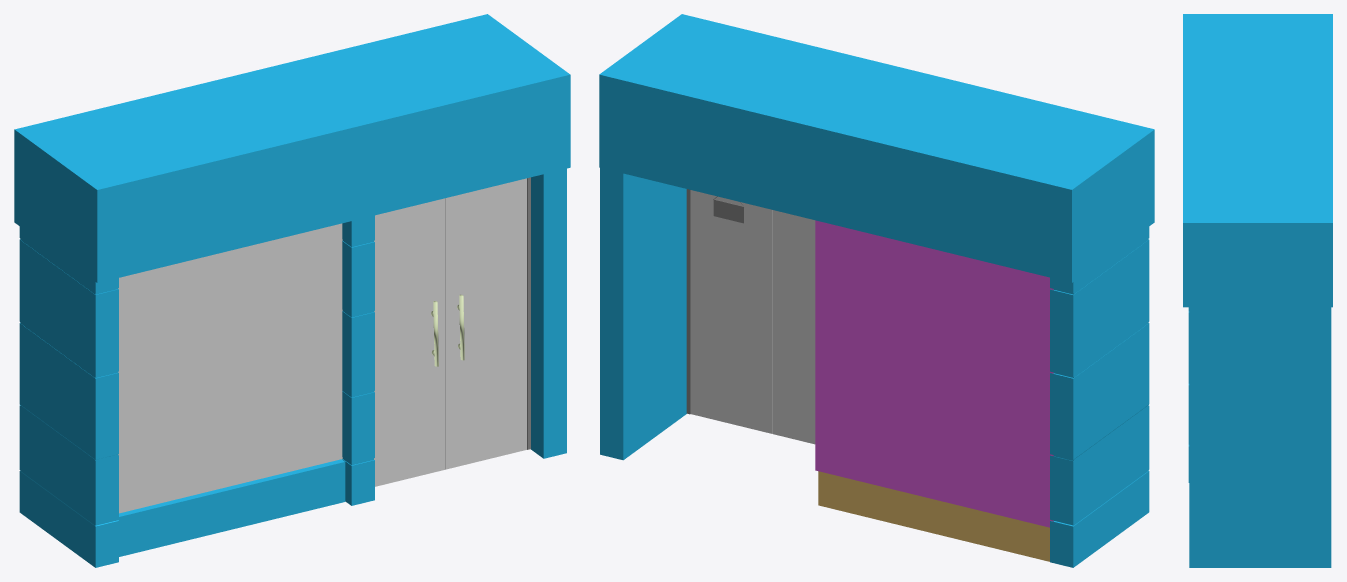
The model's file is windowshop.fbx.
3 views of the same model, side by side, from view 1: azimuth 30°, elevation 25°; view 2: azimuth 150°, elevation 25°; view 3: azimuth 270°, elevation 25° (orthographic). The views are drawn at different scales.
Parts seen in each view (by area): view 1: Cubo.004, izlogstaklo; view 2: Cubo.004; view 3: Cubo.004.
Boxes of the visible parts, x1,y1,x2,y2 form: Cubo.004: (14,14,570,567); izlogstaklo: (118,223,342,513); Cubo.004: (599,14,1154,567); Cubo.004: (1183,14,1332,567).
Size of the model in its own units: 4167 by 3207 by 1263.
